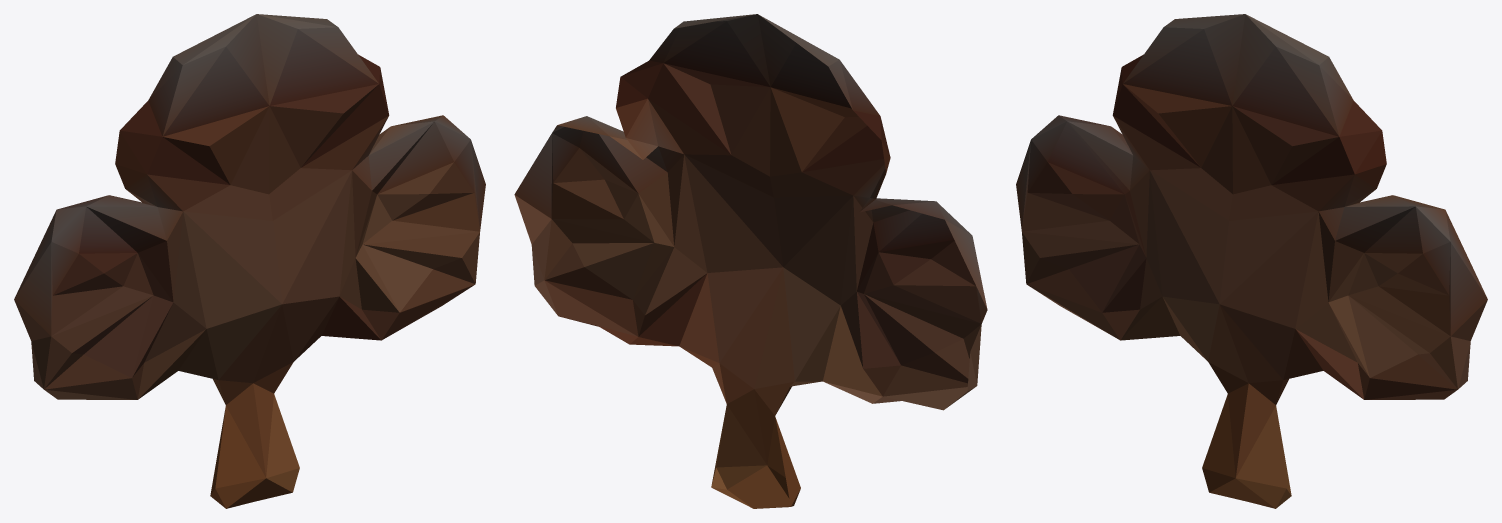
The model's file is Prop_CarvingB.fbx.
The picture shows the model from 3 angles, left to right: view 1: azimuth 30°, elevation 25°; view 2: azimuth 150°, elevation 25°; view 3: azimuth 330°, elevation 25°; orthographic projection.
Visible parts, largest first — view 1: Prop_CarvingB; view 2: Prop_CarvingB; view 3: Prop_CarvingB.
Boxes of the visible parts, x1,y1,x2,y2 form: Prop_CarvingB: (14, 14, 485, 508); Prop_CarvingB: (514, 14, 987, 508); Prop_CarvingB: (1016, 14, 1487, 508).
Size of the model in its own units: 81.03 by 80.54 by 9.61.
